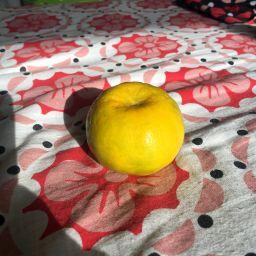Ripe: (87, 85, 183, 174)
